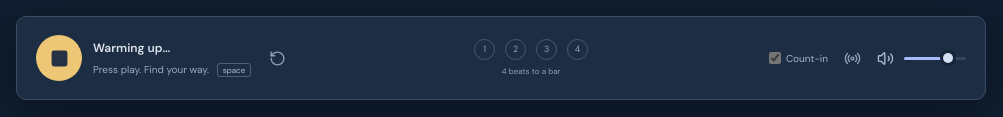
practice presentation › keeps Stop available during pending start and locks count-in
Expected: the checkbox labelled "Count-in" is disabled, [769, 52, 781, 64]
What coordinates should you click on to do the following:
click the button named "Stop band"
I would click on:
 (59, 58)
Its box is [36, 35, 82, 81].
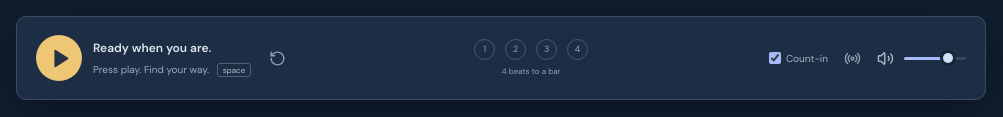
Expected: the checkbox labelled "Count-in" is enabled, [769, 52, 781, 64]
